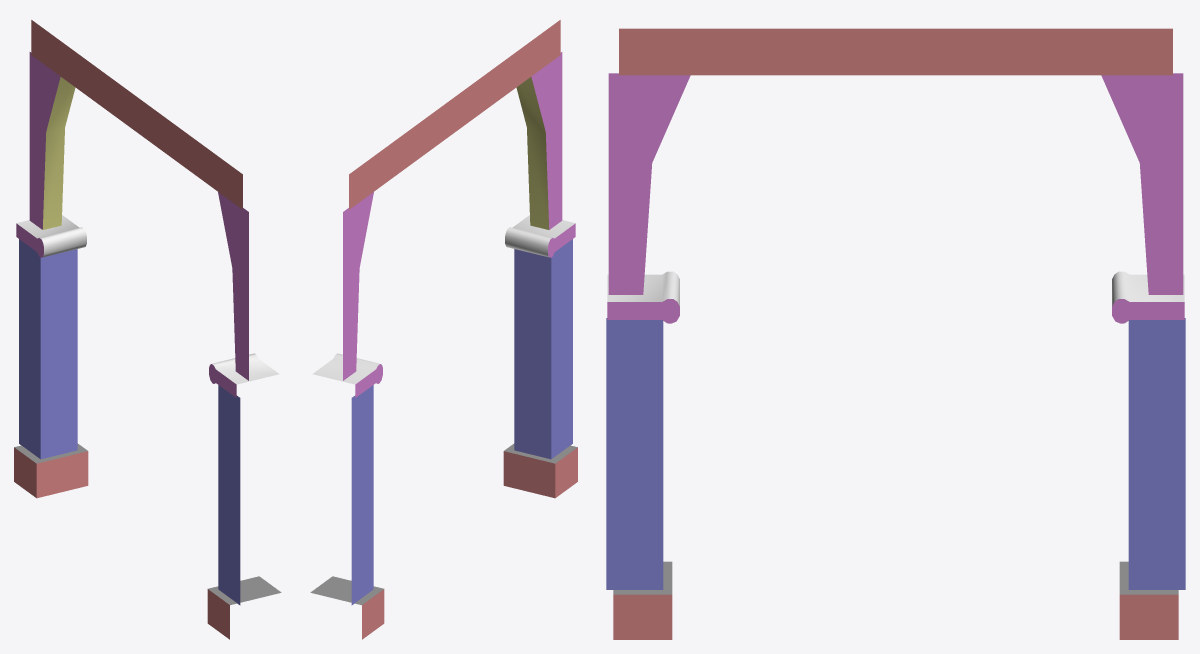
Rendered from SSQ_dungeon_S__SSQ_pillar_031.gltf.
3 views of the same model, side by side, from view 1: azimuth 30°, elevation 25°; view 2: azimuth 150°, elevation 25°; view 3: azimuth 270°, elevation 25° (orthographic). The views are drawn at different scales.
Parts seen in each view (by area): view 1: SSQ_pillar_031; view 2: SSQ_pillar_031; view 3: SSQ_pillar_031.
Boxes of the visible parts, x1,y1,x2,y2 form: SSQ_pillar_031: (14,20,281,639); SSQ_pillar_031: (310,20,577,639); SSQ_pillar_031: (606,28,1185,639).
Bounding box in the file's own units: 0.4517 × 3.84 × 3.35.
